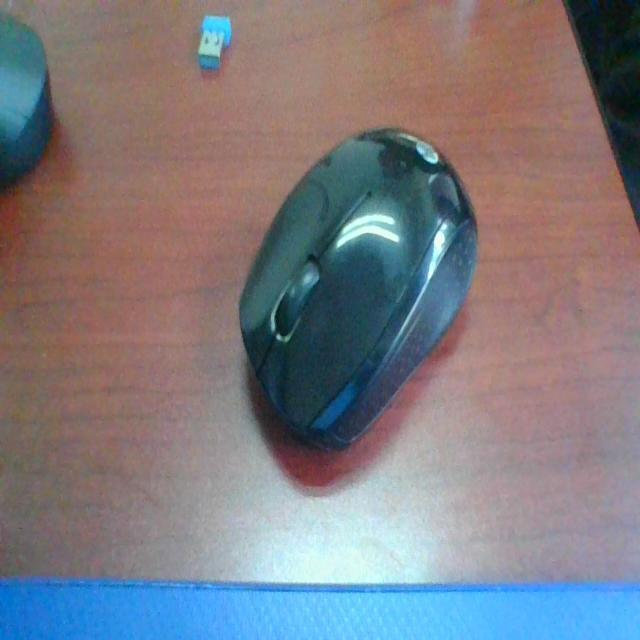mouse: (233, 114, 484, 440)
